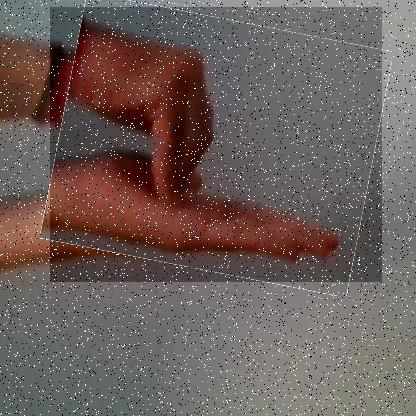Z: (50, 7, 383, 283)
